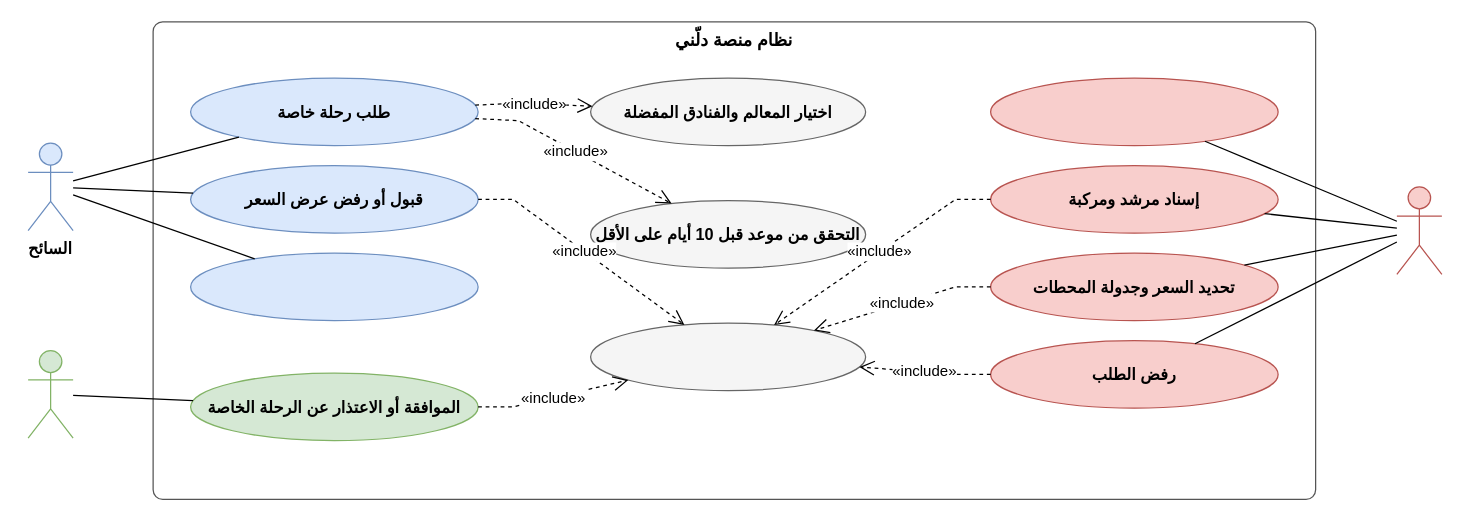
Some shapes in this 1464 by 521 pixel diagram are drawn without their labels. Here are the shapes that lost their labels. From the top down, the centre of each, then its label:
the point at 1133,111: دراسة الطلب
the point at 1419,230: مدير النظام
the point at 333,286: إلغاء الرحلة الخاصة
the point at 727,356: إشعار الطرف التالي
the point at 50,393: المرشد السياحي
